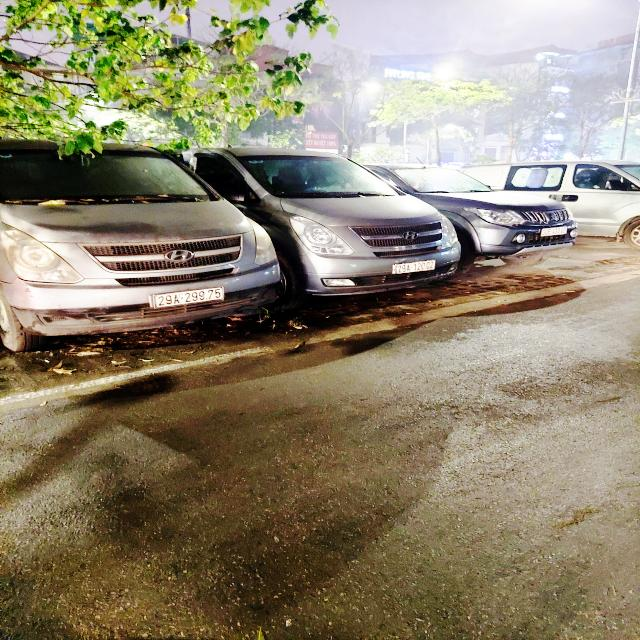license_plate: (155, 287, 228, 311), (397, 260, 437, 276), (541, 226, 570, 238)
